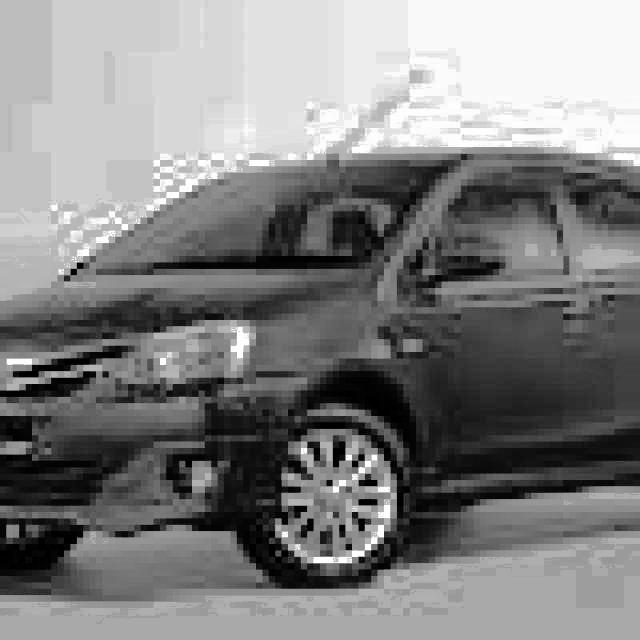Car: (2, 131, 640, 612)
